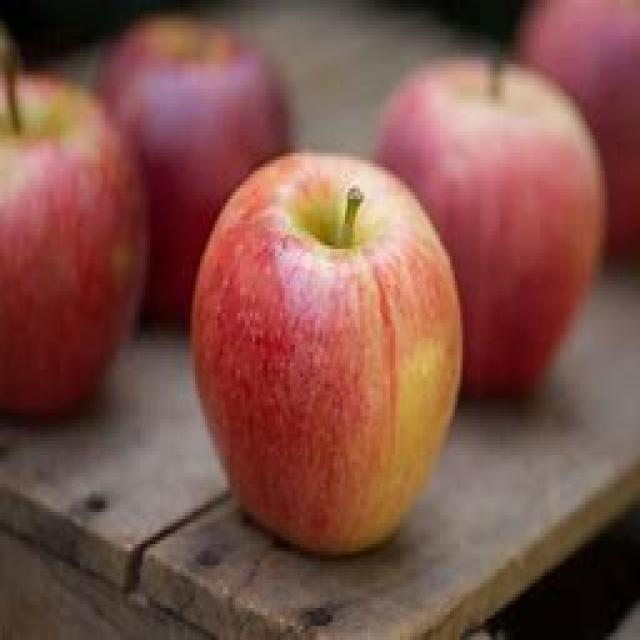apple: (188, 146, 465, 559)
